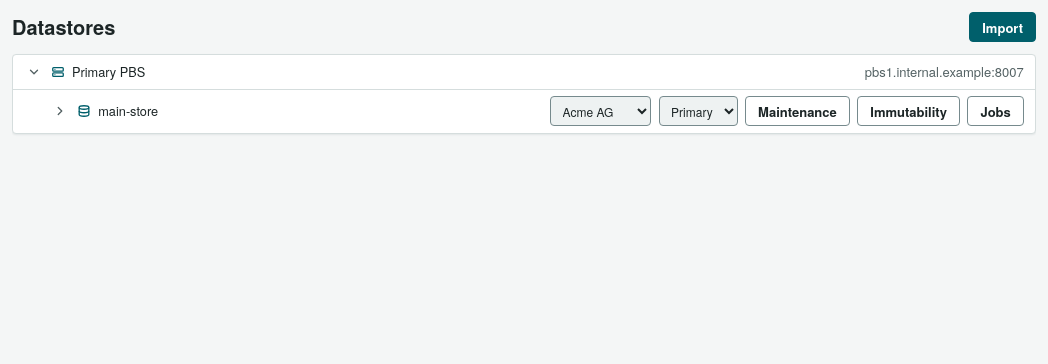
Scenario: DatastoresPage — backup group filter › shows an empty state when the filter matches nothing
The width and height of the screenshot is (1048, 364).
Expected: the text "Primary PBS" is shown, [72,62,145,82]
Click the button named "Expand": (60, 111) [50,102,69,121]
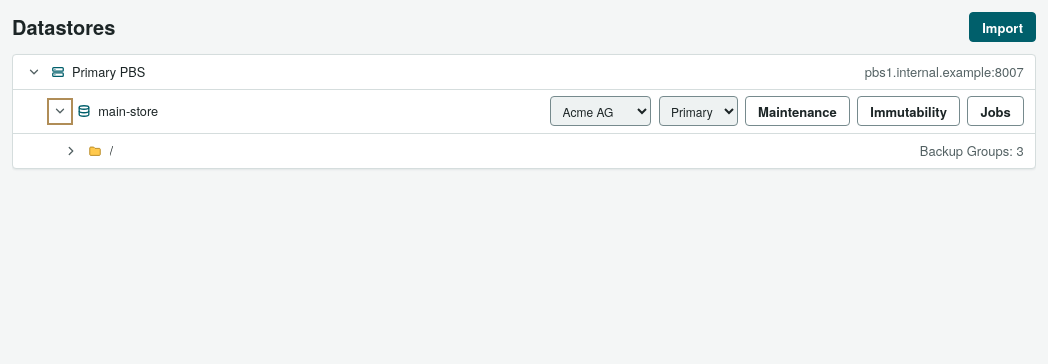
Expected: the text "main-store" is shown, [98,101,158,121]
Click the button named "Expand": (71, 151) [62,141,81,160]
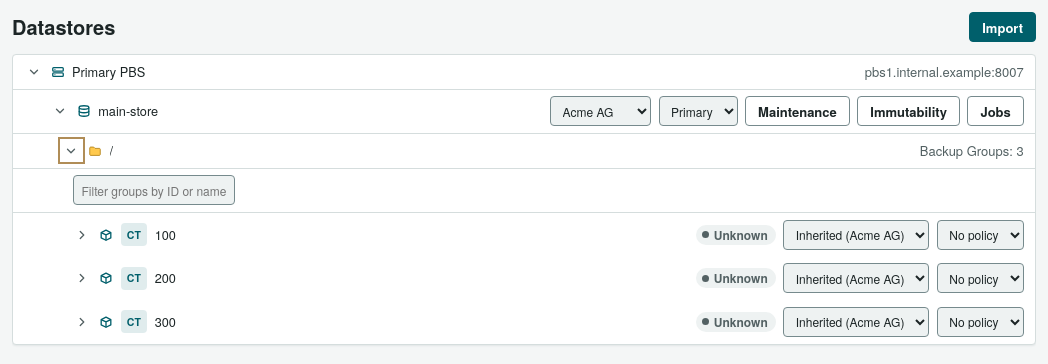
Expected: the text "/" is shown, [110,141,113,161]
Click the button named "Expand" in the row of "100": (82, 235) [73,225,92,244]
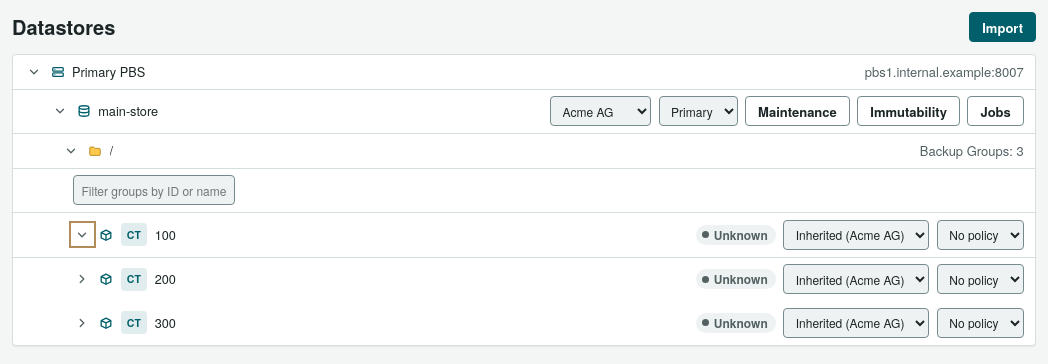
Expected: the text "100" is shown, [155,225,176,245]
In the field with placeholder "Filter groups by ID or name…": (154, 190) [73,175,235,205], type "does-not-exist"
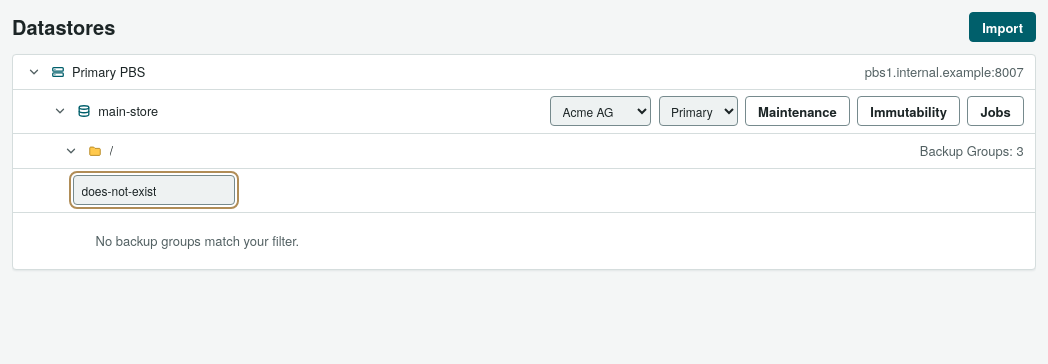
Expected: the text "No backup groups match your filter." is shown, [96,231,299,250]
